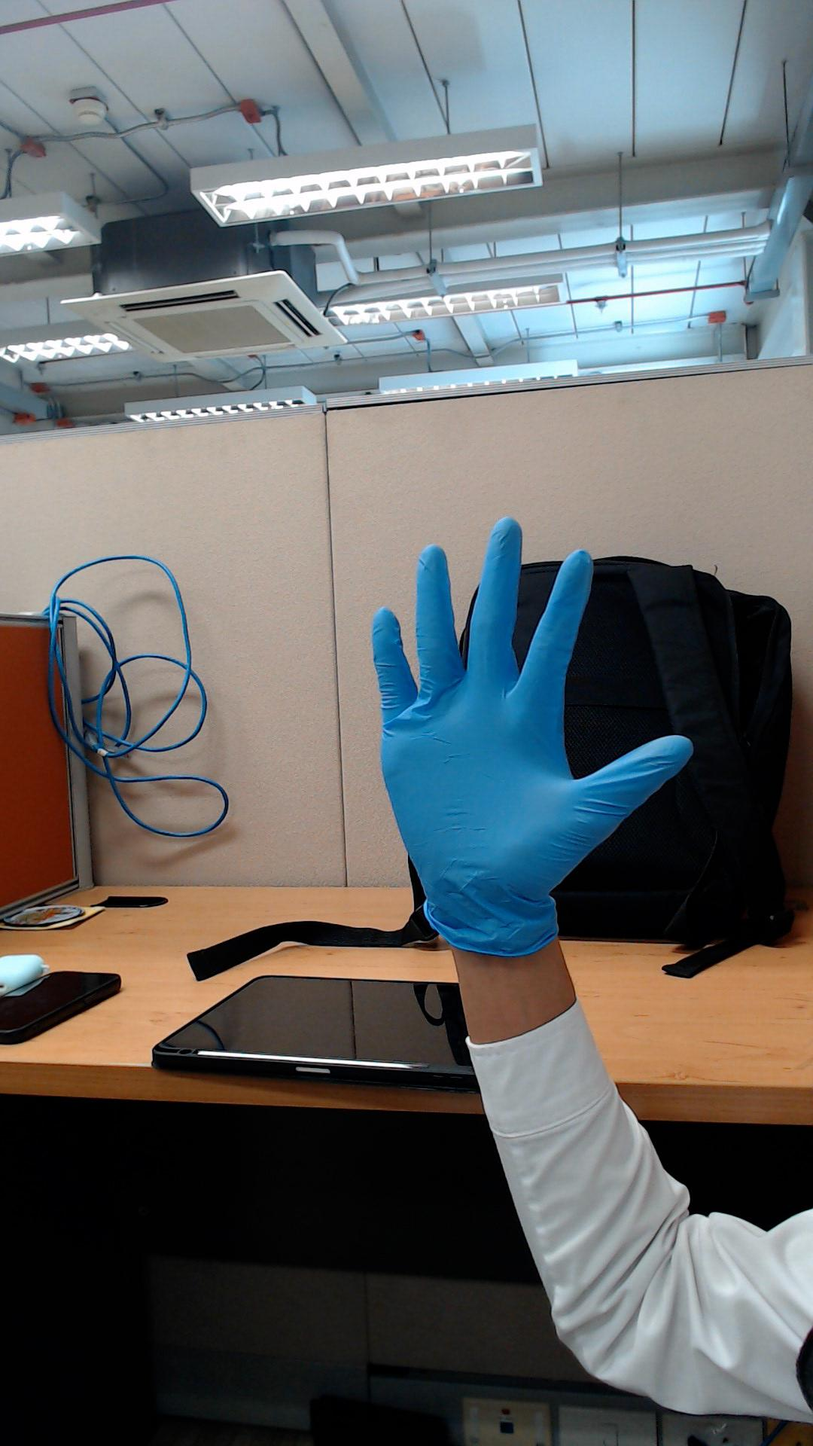gloves: (345, 500, 701, 880)
